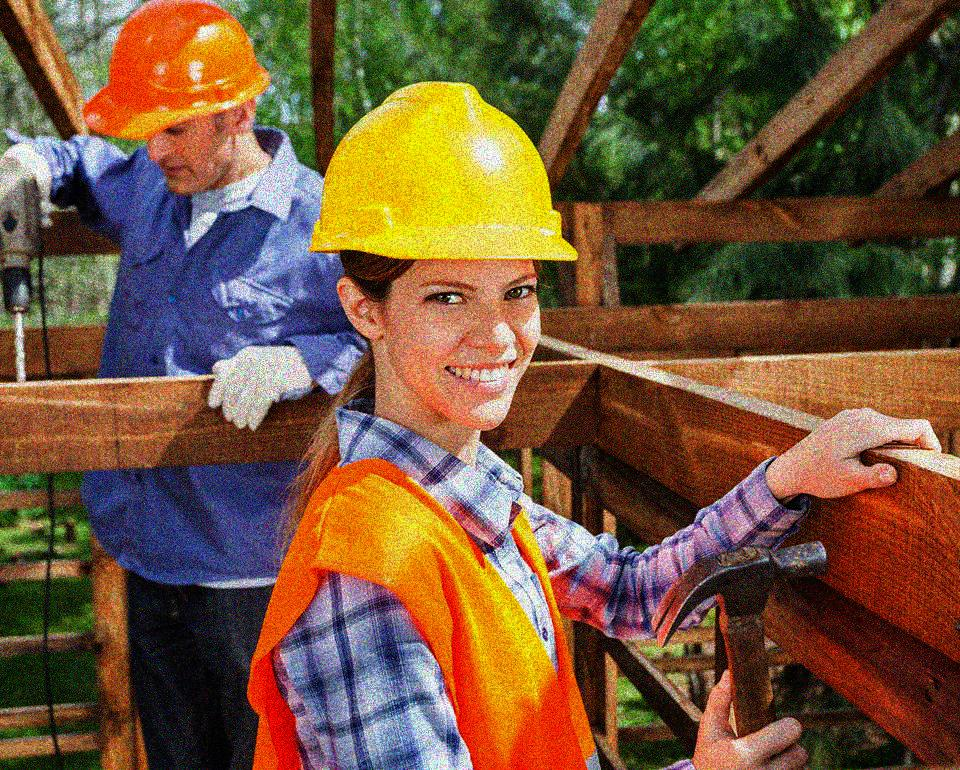helmet: (306, 75, 588, 432), (80, 5, 271, 201)
